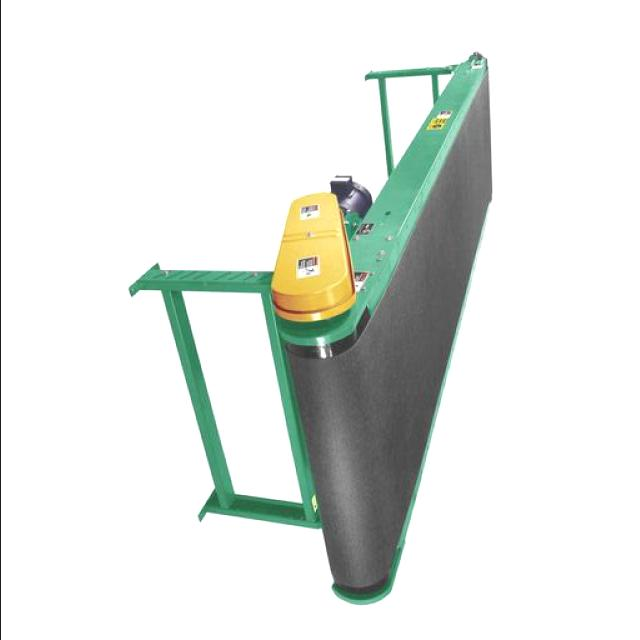conveyor: (286, 51, 495, 590)
